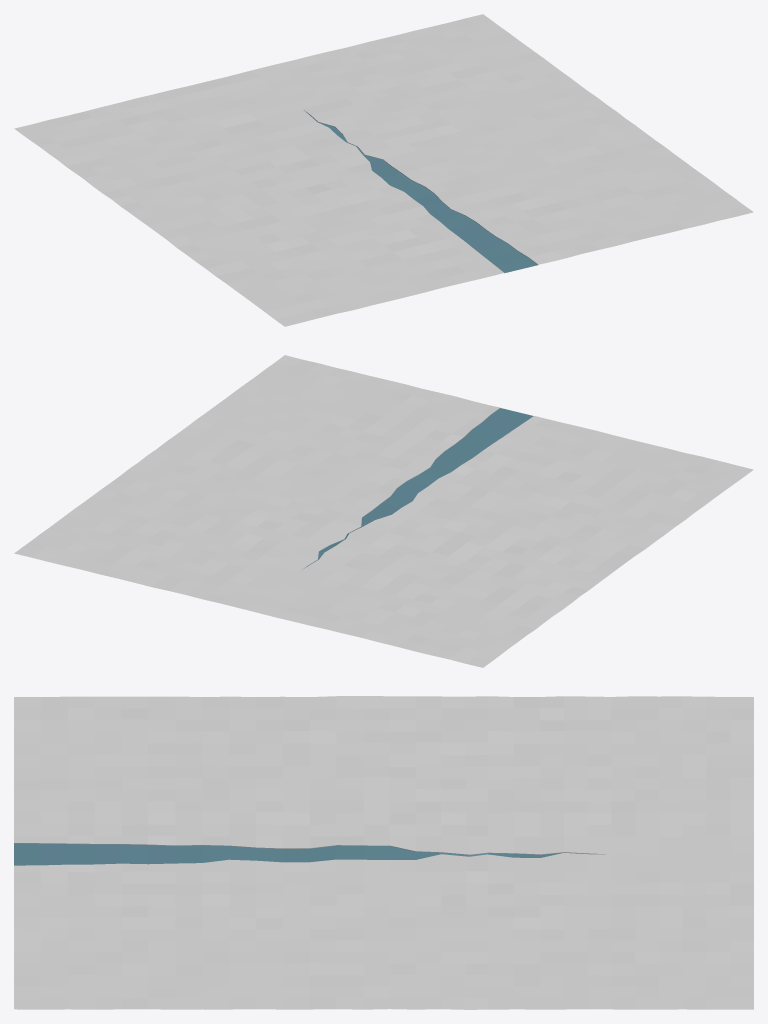
File: nature_terrain_arctic_01.fbx
The picture shows the model from 3 angles, top to bottom: view 1: azimuth 30°, elevation 25°; view 2: azimuth 150°, elevation 25°; view 3: azimuth 270°, elevation 25°; orthographic projection. The views are drawn at different scales.
Parts seen in each view (by area): view 1: Plane.011; view 2: Plane.011; view 3: Plane.011.
Part boxes in pixels (<box>): Plane.011: <box>14,14,753,326</box>; Plane.011: <box>14,355,753,667</box>; Plane.011: <box>14,696,753,1009</box>.
Size of the model in its own units: 24000 by 66.98 by 24000.
